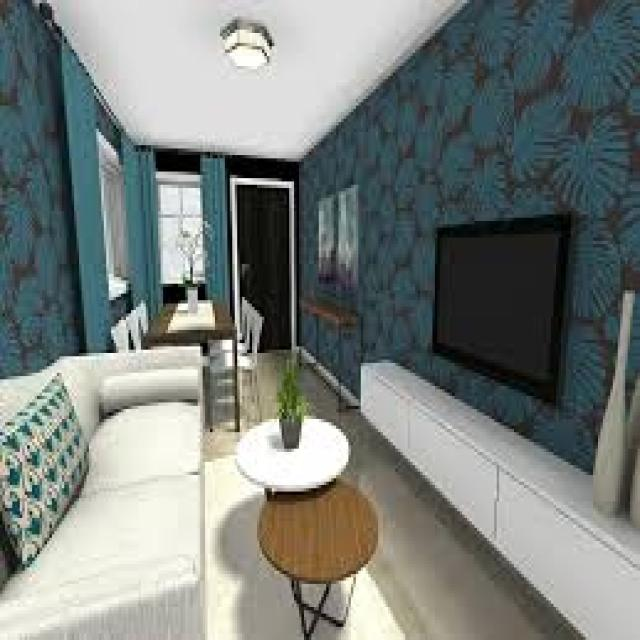Chair: (208, 316, 266, 422), (109, 314, 141, 348)
Lamp: (228, 20, 276, 76)
Sofa: (2, 344, 205, 638)
Table: (224, 403, 388, 630), (152, 282, 240, 424)
